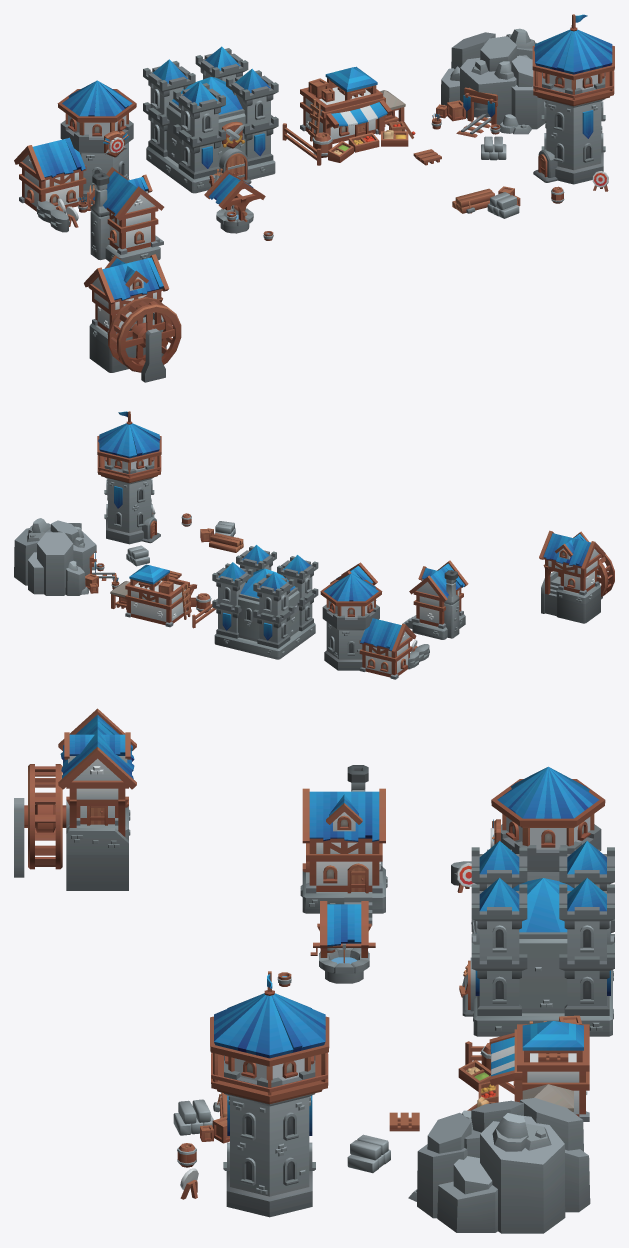
Rendered from Village.glb.
The picture shows the model from 3 angles, top to bottom: view 1: azimuth 30°, elevation 25°; view 2: azimuth 150°, elevation 25°; view 3: azimuth 270°, elevation 25°; orthographic projection. The views are drawn at different scales.
Visible parts, largest first — view 1: building_archeryrange_blue; view 2: building_archeryrange_blue; view 3: building_archeryrange_blue.
Part boxes in pixels (<box>): building_archeryrange_blue: <box>14,14,614,382</box>; building_archeryrange_blue: <box>14,411,614,679</box>; building_archeryrange_blue: <box>14,708,614,1233</box>.
Bounding box in the file's own units: 39.64 × 11.34 × 24.16.
1 material, 1 textured.
